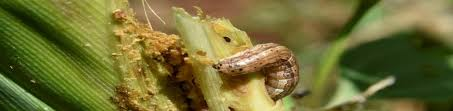Armyworm: (213, 36, 300, 101)
